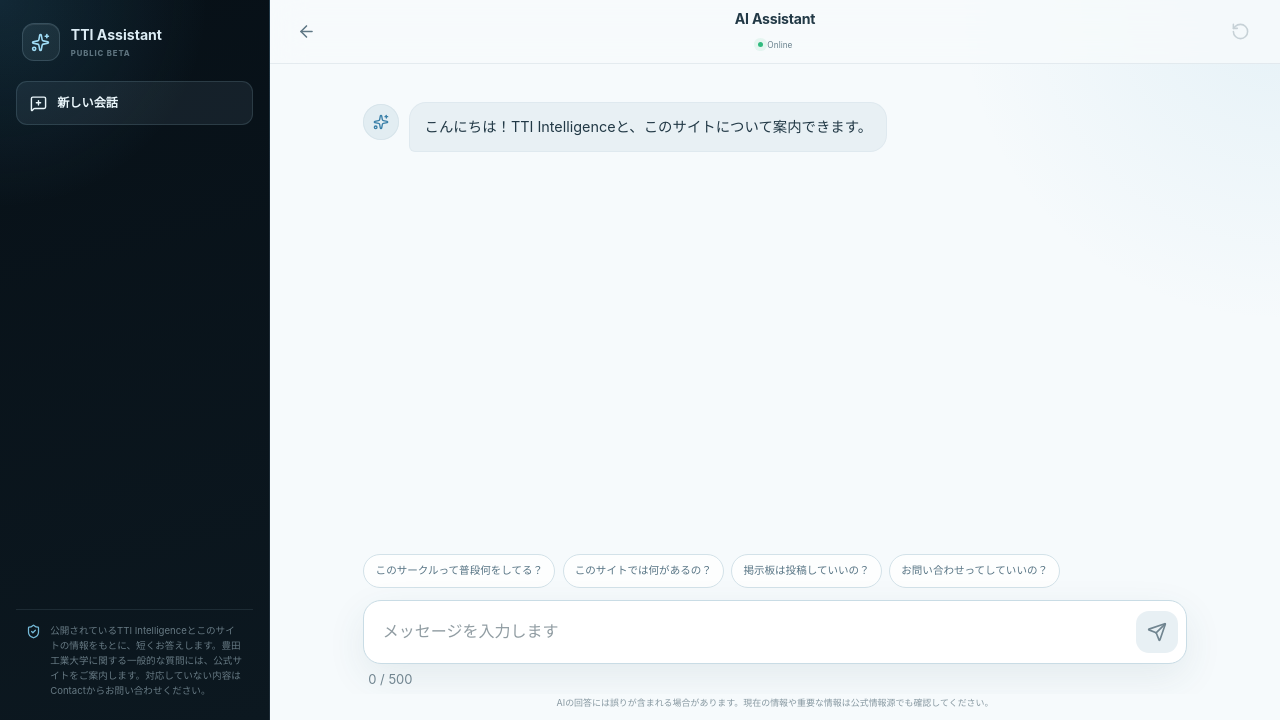
it: AiAssistantProductPage › 入力欄の上に質問例を最初だけ表示し、一件質問すると消す
The width and height of the screenshot is (1280, 720).
Expected: the 3rd button named "このサイトでは何があるの？" is shown, [562, 554, 724, 588]
Expected: the 4th button named "掲示板は投稿していいの？" is shown, [731, 554, 882, 588]
What coordinates should you click on to do the following:
click the 2nd button named "このサークルって普段何をしてる？"
I would click on:
 (459, 571)
Its box is [363, 554, 555, 588].
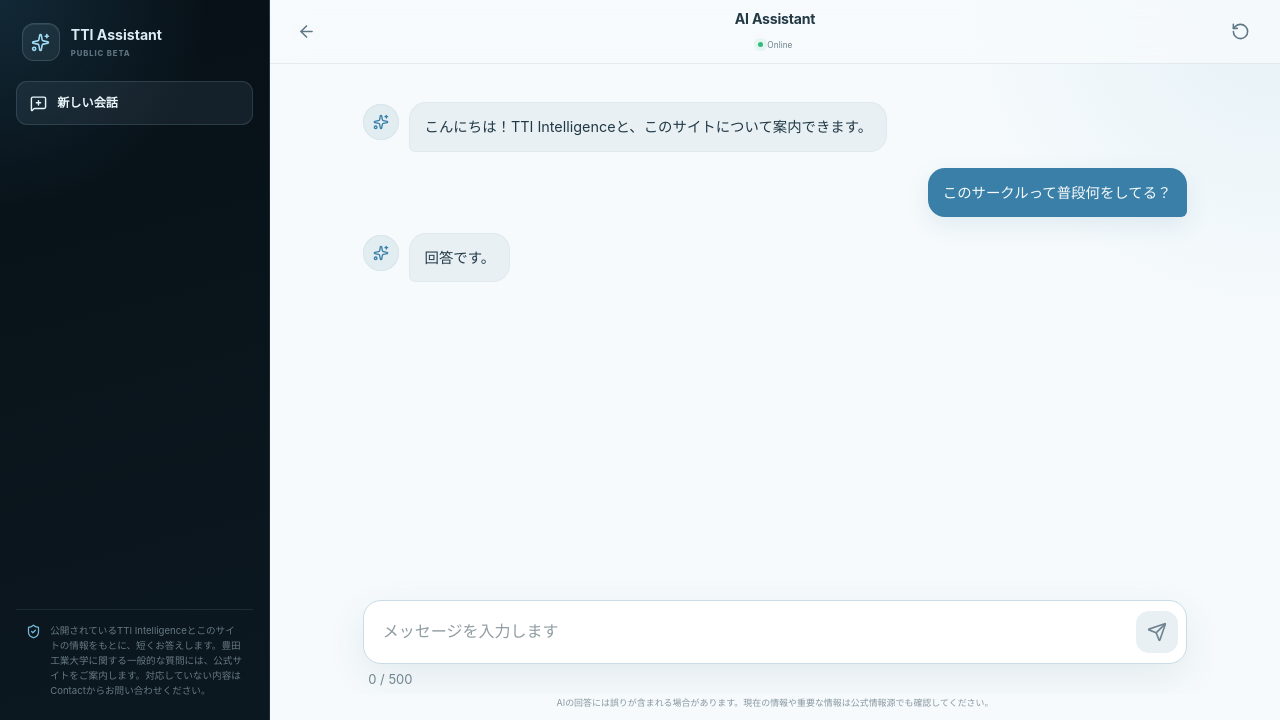
Result: the navigation bar "質問例" is gone
What coordinates should you click on to do the following:
click the button named "会話を最初からやり直す"
I would click on:
 (1240, 32)
Its box is [1220, 12, 1260, 52].
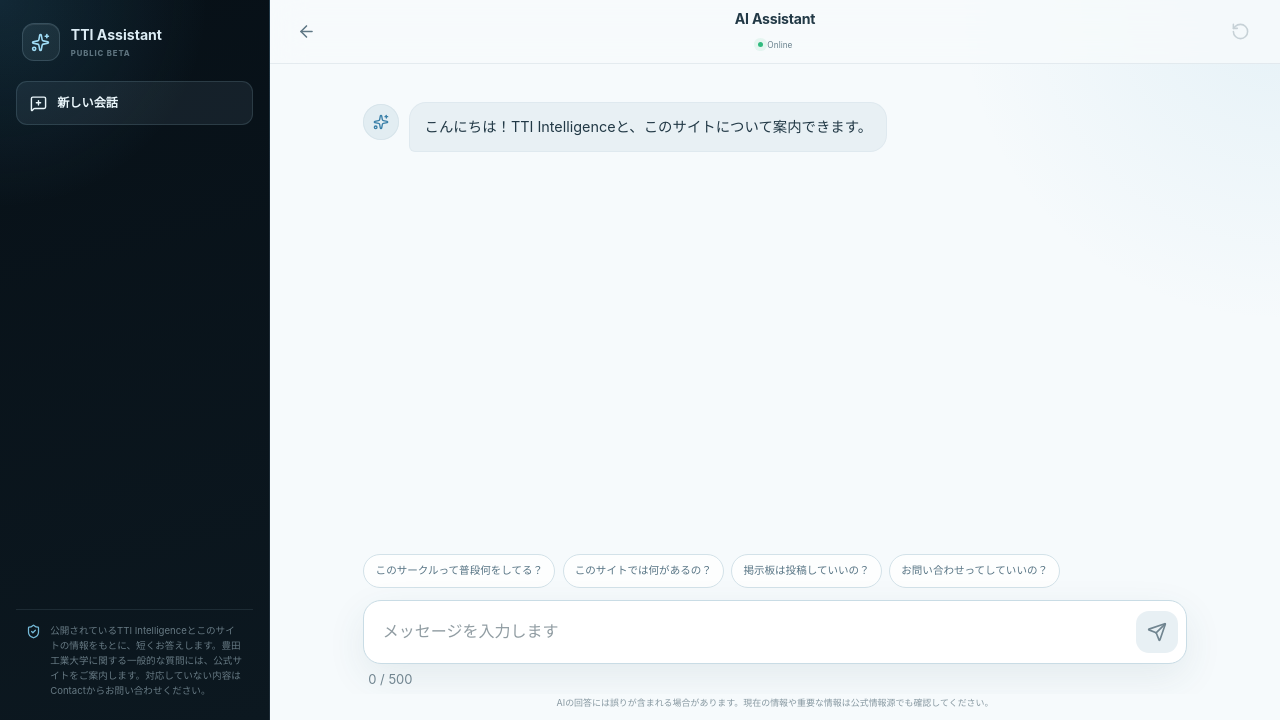
Result: the navigation bar named "質問例" is shown at [363, 554, 1060, 588]
